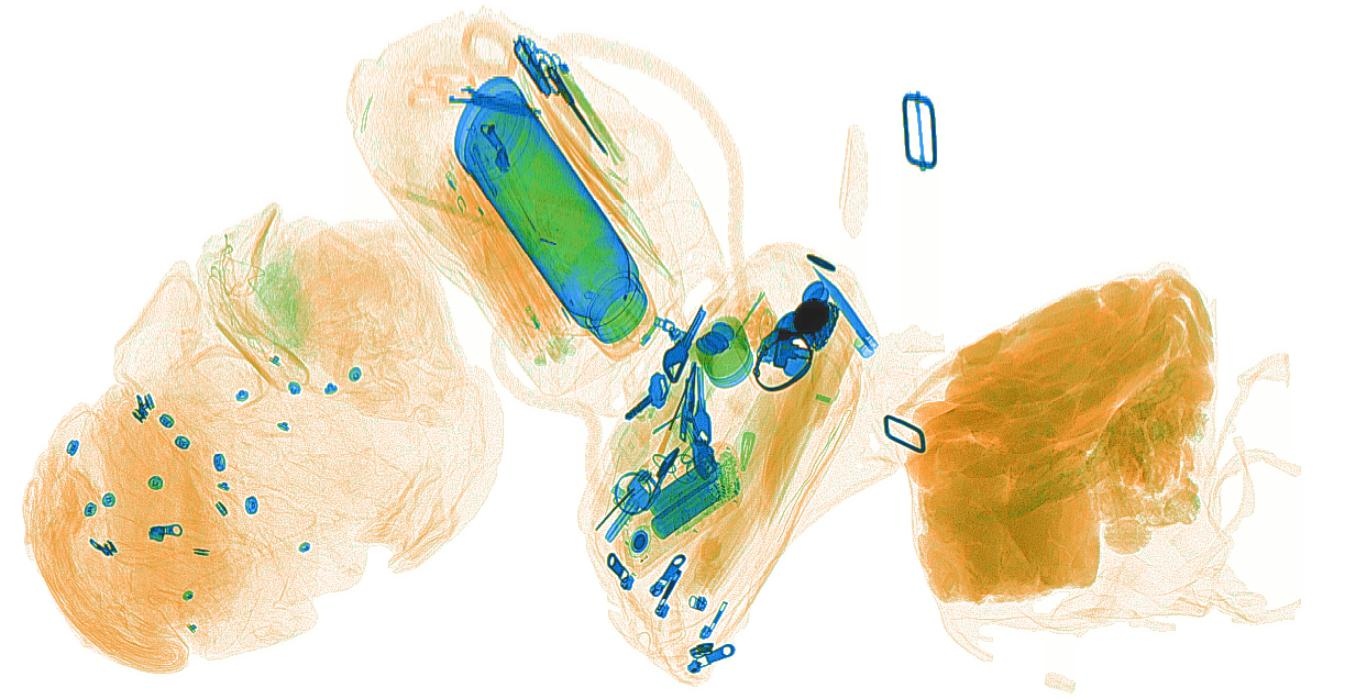battery: (646, 458, 723, 543)
knife: (798, 257, 877, 362)
scissors: (404, 64, 541, 122)
